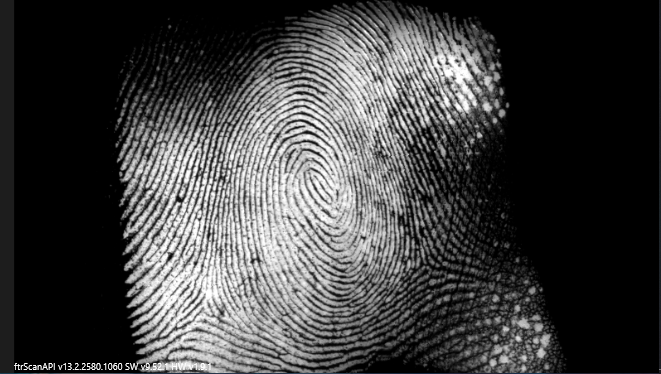deltas: (401, 235, 459, 286), (179, 279, 227, 324)
nucleo: (292, 157, 341, 208)
